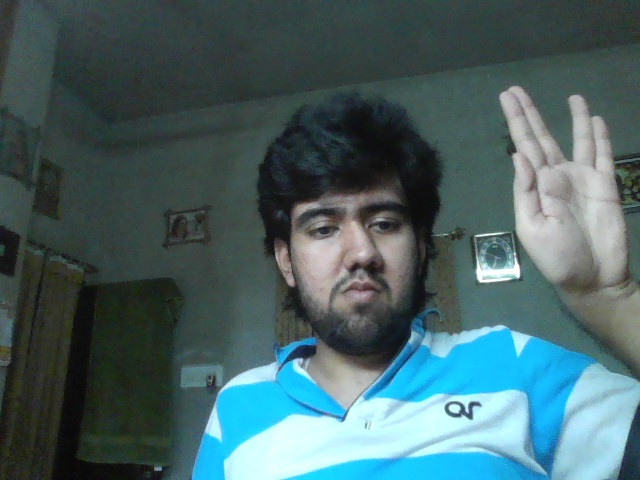LiveLong: (498, 85, 629, 285)
